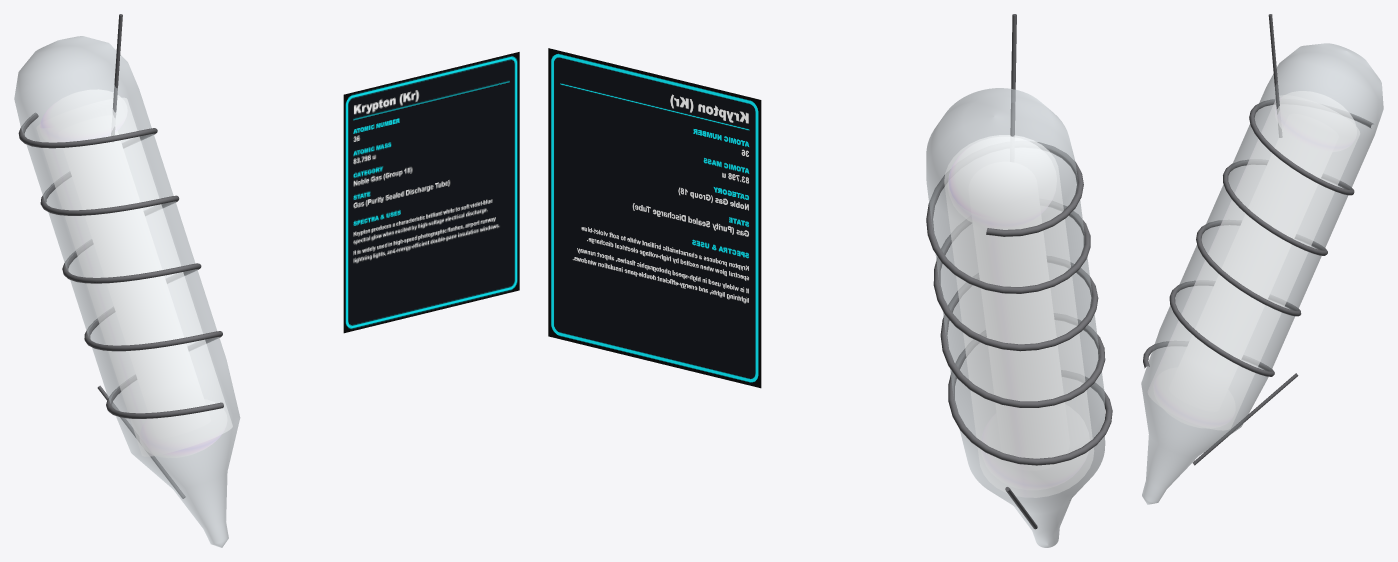
Rendered from krypton.glb.
3 renders of one model, left to right at view 1: azimuth 30°, elevation 25°; view 2: azimuth 150°, elevation 25°; view 3: azimuth 270°, elevation 25°, orthographic. The views are drawn at different scales.
Parts seen in each view (by area): view 1: Mesh_0, Mesh_7, Mesh_2, Mesh_1, Mesh_4, Mesh_3; view 2: Mesh_7, Mesh_0, Mesh_2, Mesh_1, Mesh_4, Mesh_3; view 3: Mesh_0, Mesh_2, Mesh_1, Mesh_4, Mesh_3, Mesh_5.001, Mesh_5.
Boxes of the visible parts, x1,y1,x2,y2 form: Mesh_0: (14, 36, 240, 547); Mesh_7: (343, 52, 519, 333); Mesh_2: (36, 98, 232, 456); Mesh_1: (63, 131, 203, 412); Mesh_4: (18, 113, 223, 418); Mesh_3: (40, 89, 123, 128); Mesh_7: (548, 48, 761, 388); Mesh_0: (926, 88, 1105, 547); Mesh_2: (944, 135, 1093, 497); Mesh_1: (973, 215, 1067, 452); Mesh_4: (926, 142, 1112, 465); Mesh_3: (948, 137, 1054, 218); Mesh_0: (1141, 43, 1383, 504); Mesh_2: (1148, 95, 1359, 430); Mesh_1: (1177, 131, 1331, 392); Mesh_4: (1143, 99, 1372, 376); Mesh_3: (1279, 91, 1356, 136); Mesh_5.001: (1193, 373, 1298, 465); Mesh_5: (1268, 14, 1281, 137).
Size of the model in its own units: 2.12 by 2.17 by 1.01.
6 materials, 1 textured.
